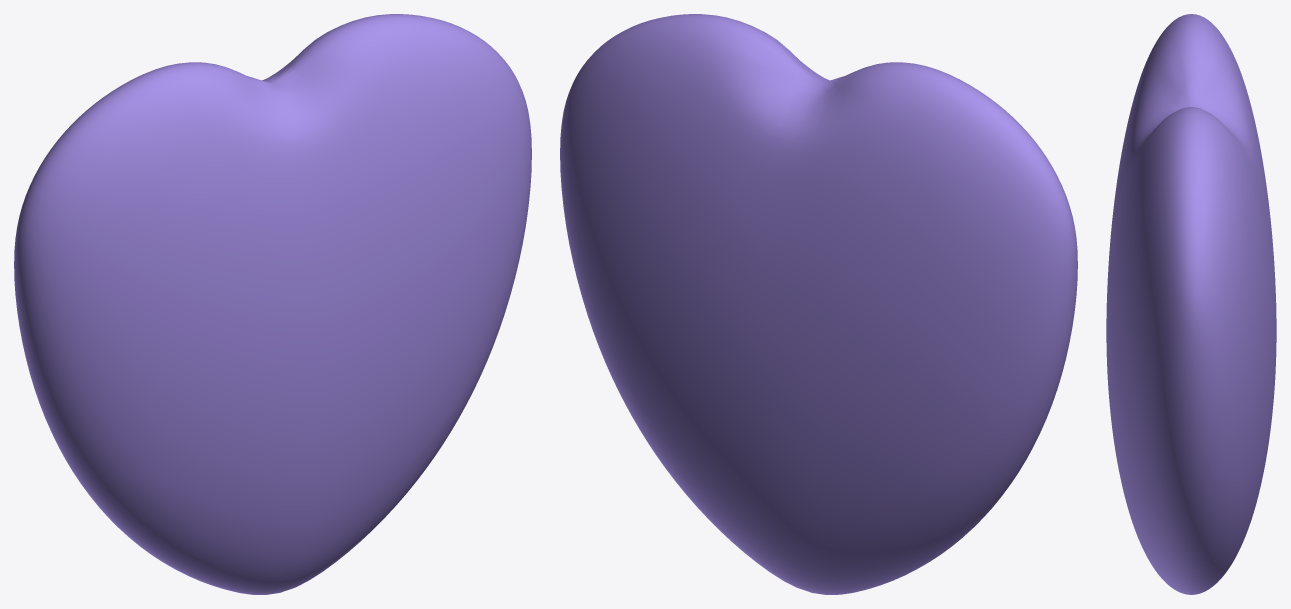
File: purple.glb
The picture shows the model from 3 angles, left to right: view 1: azimuth 30°, elevation 25°; view 2: azimuth 150°, elevation 25°; view 3: azimuth 270°, elevation 25°; orthographic projection. The views are drawn at different scales.
Parts seen in each view (by area): view 1: Cube; view 2: Cube; view 3: Cube.
Part boxes in pixels (box(x1,y1,x2,y2)): Cube: box(14, 14, 531, 594); Cube: box(560, 14, 1077, 594); Cube: box(1106, 14, 1276, 594).
Size of the model in its own units: 10.65 by 10.93 by 3.29.
